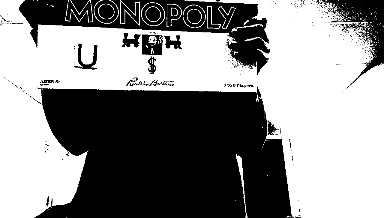U: (73, 42, 97, 67)
